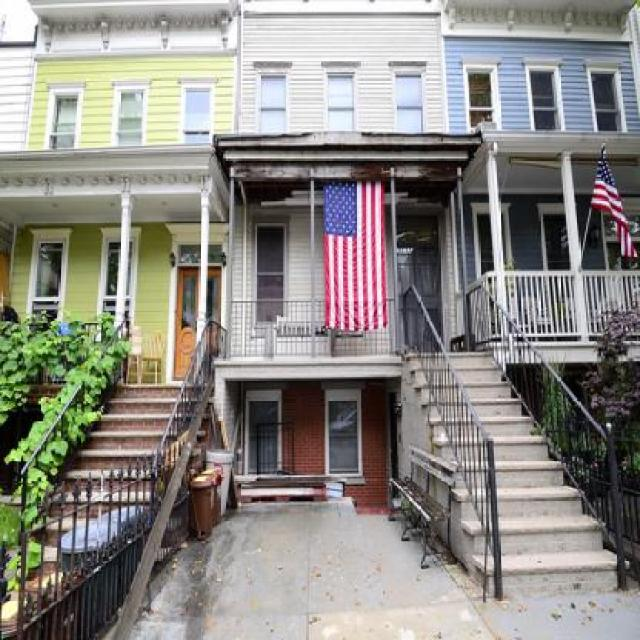stair: (408, 268, 562, 590)
